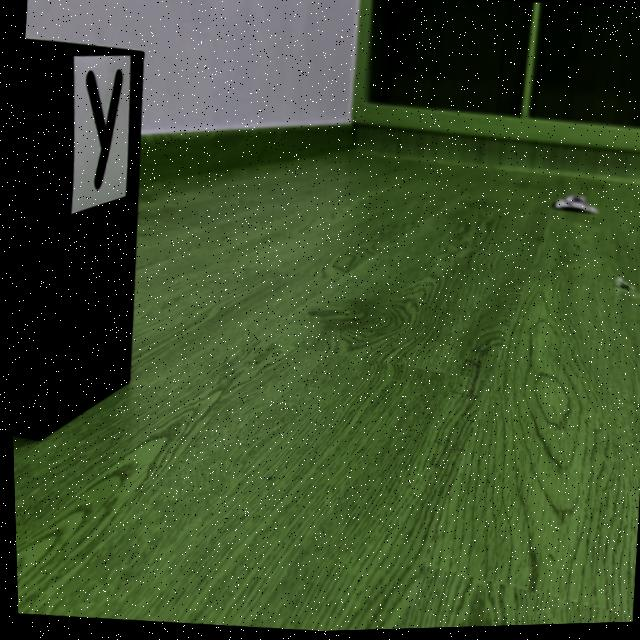Y: (85, 70, 122, 189)
